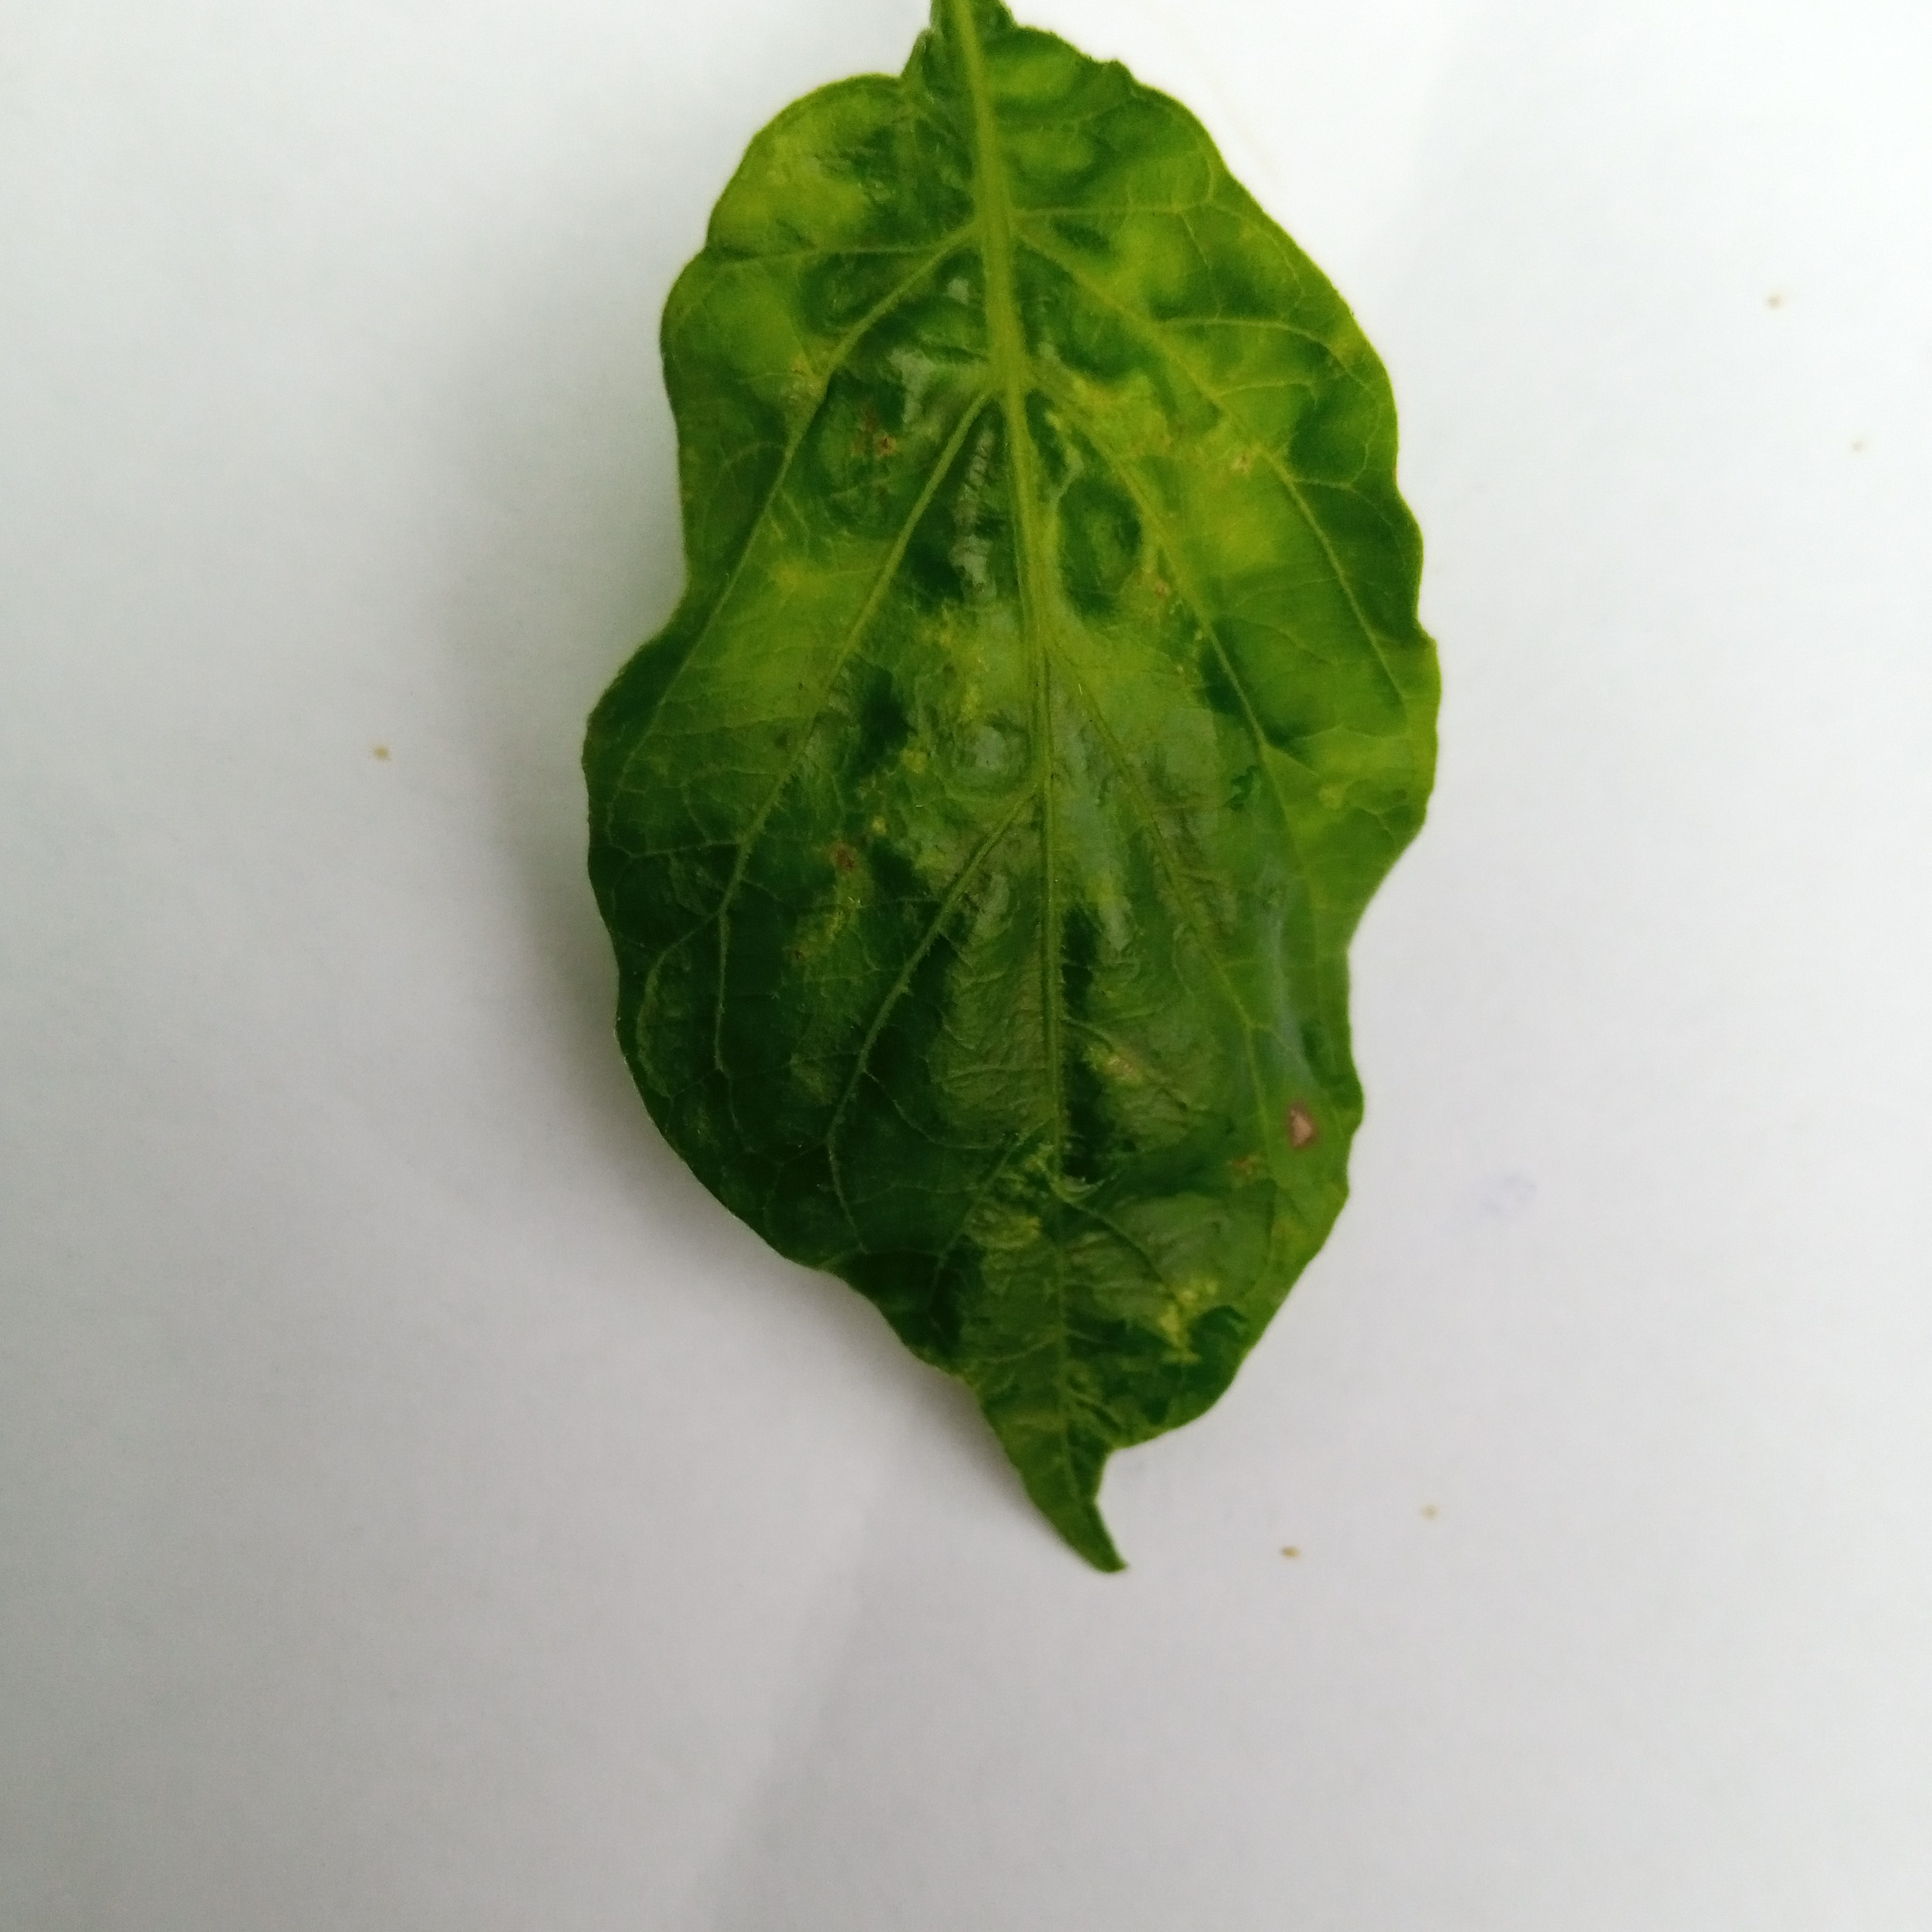Leaf: (444, 0, 1506, 1693)
